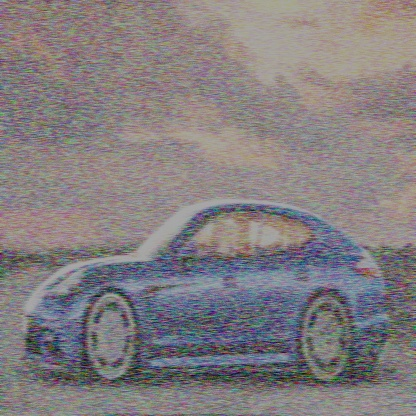Vehicle: (20, 198, 392, 388)
